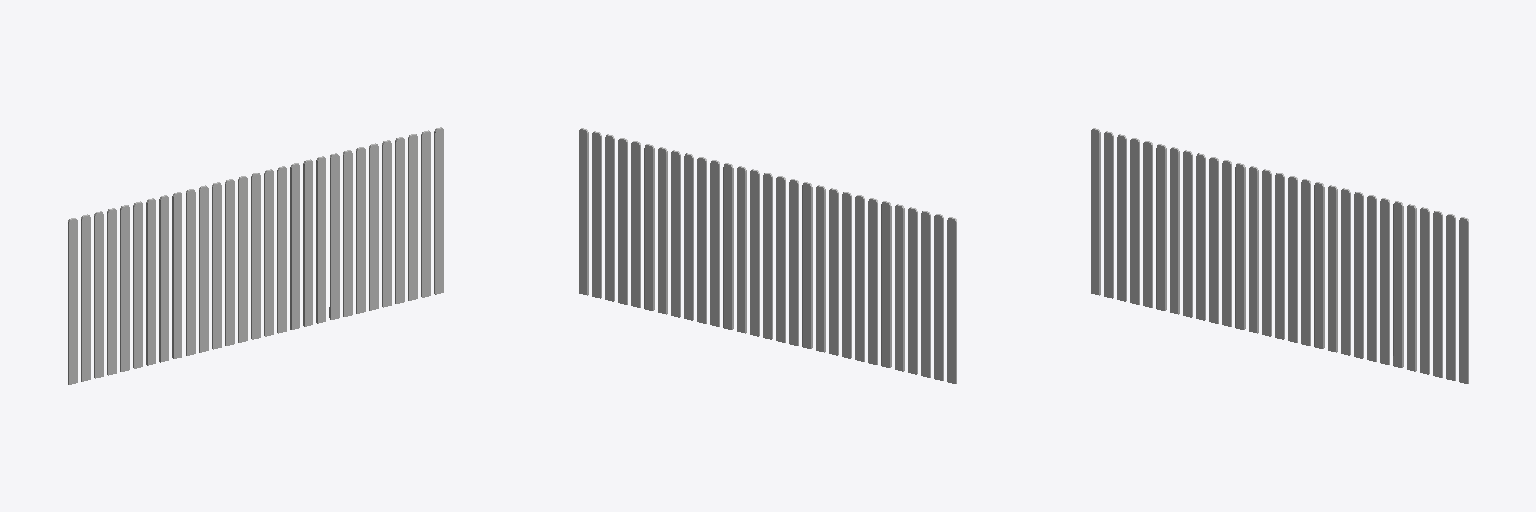
File: VallaChica1.obj
3 views of the same model, side by side, from view 1: azimuth 30°, elevation 25°; view 2: azimuth 150°, elevation 25°; view 3: azimuth 330°, elevation 25° (orthographic).
Visible parts, largest first — view 1: Cube.069_Material; view 2: Cube.069_Material; view 3: Cube.069_Material.
Part boxes in pixels (x1,y1,x2,y2): Cube.069_Material: (68,127,443,384); Cube.069_Material: (579,128,956,383); Cube.069_Material: (1091,128,1468,383).
Size of the model in its own units: 2.79 by 1.17 by 0.0306.